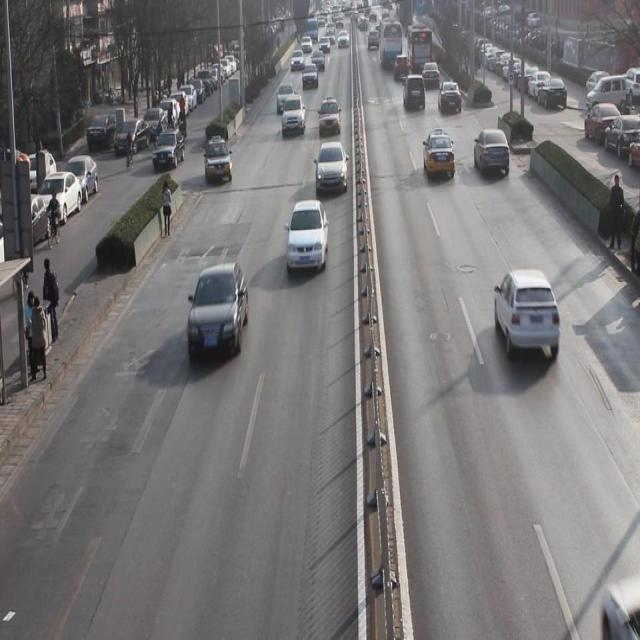car: (494, 265, 562, 364), (189, 268, 247, 363), (287, 198, 330, 278), (472, 130, 510, 177), (314, 145, 349, 193), (422, 128, 454, 180), (204, 138, 233, 187), (281, 94, 307, 138), (403, 72, 427, 114), (317, 95, 341, 137), (438, 79, 462, 115), (276, 82, 295, 114), (423, 59, 439, 89), (394, 53, 410, 82), (302, 64, 318, 90)
